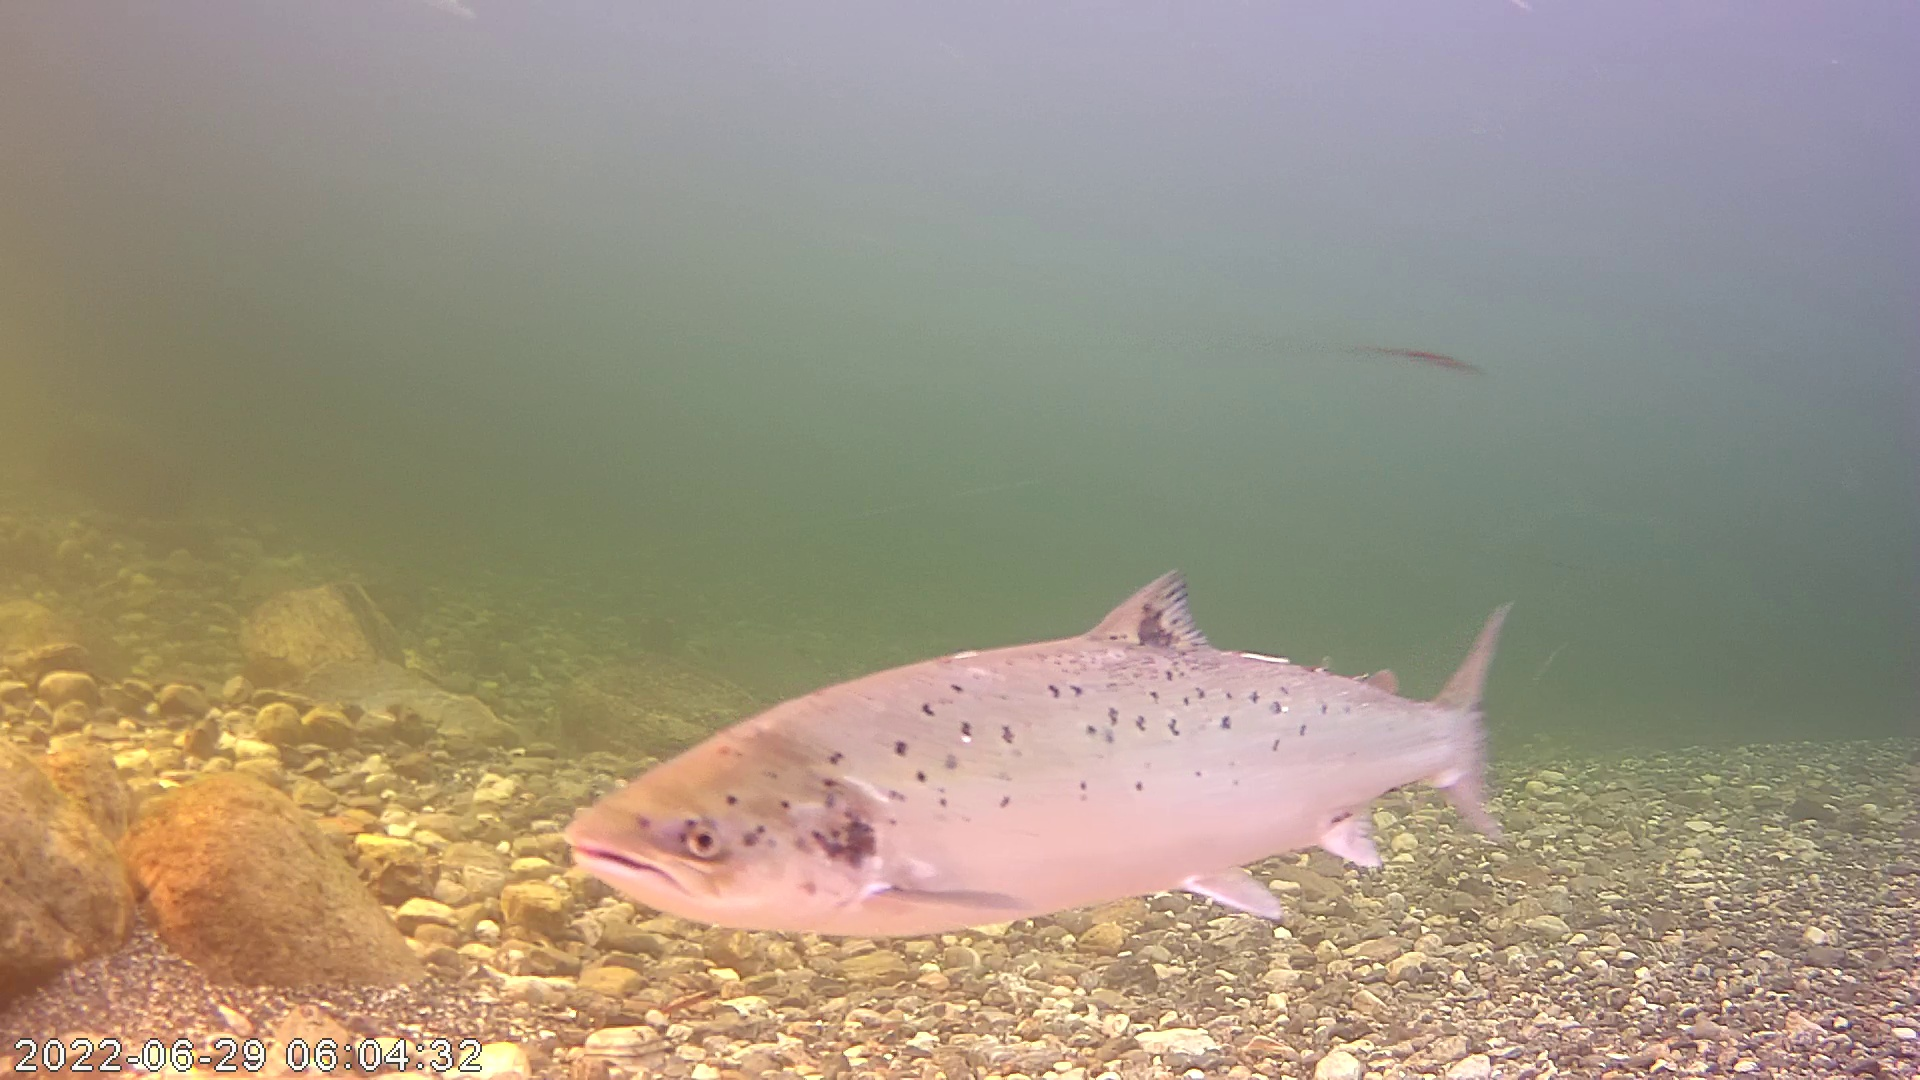salmon: (570, 513, 1515, 945)
